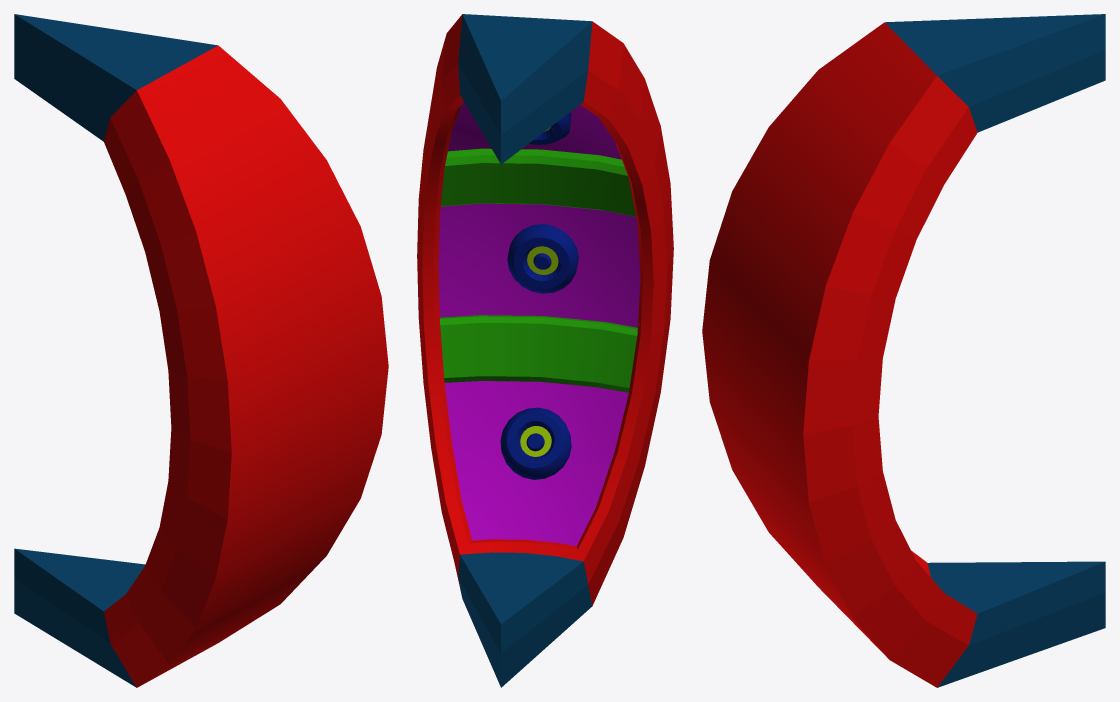
File: OBJ_Salle_IA_V2.fbx
3 views of the same model, side by side, from view 1: azimuth 30°, elevation 25°; view 2: azimuth 150°, elevation 25°; view 3: azimuth 270°, elevation 25° (orthographic). The views are drawn at different scales.
Parts seen in each view (by area): view 1: OBJ_Salle_IA_V2; view 2: OBJ_Salle_IA_V2; view 3: OBJ_Salle_IA_V2.
Part boxes in pixels (bbox=[...]): OBJ_Salle_IA_V2: bbox=[14, 14, 388, 687]; OBJ_Salle_IA_V2: bbox=[417, 14, 673, 687]; OBJ_Salle_IA_V2: bbox=[702, 14, 1105, 687].
Size of the model in its own units: 10.81 by 27.31 by 16.27.
